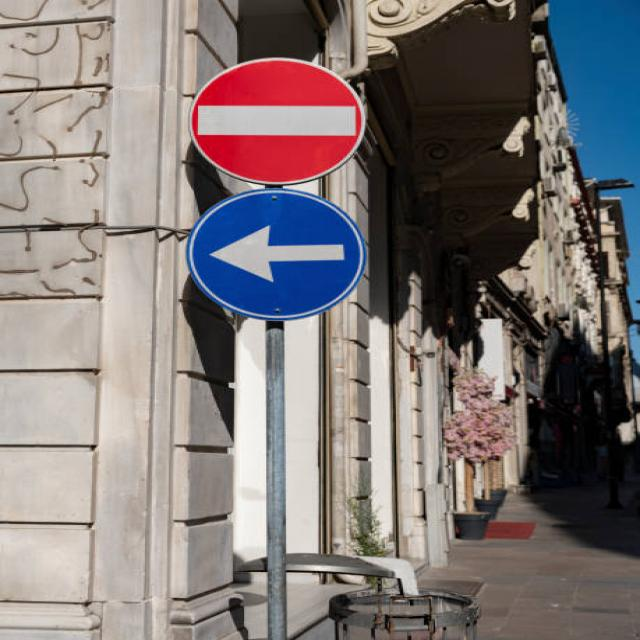do_not_enter: (174, 56, 406, 194)
